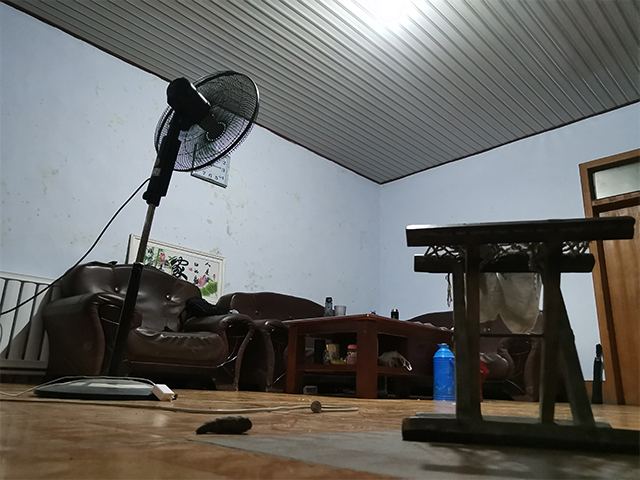feces: (194, 414, 254, 437)
sofa: (40, 263, 266, 393)
stool: (401, 212, 640, 452)
table: (280, 311, 456, 399)
wire: (1, 374, 360, 414)
